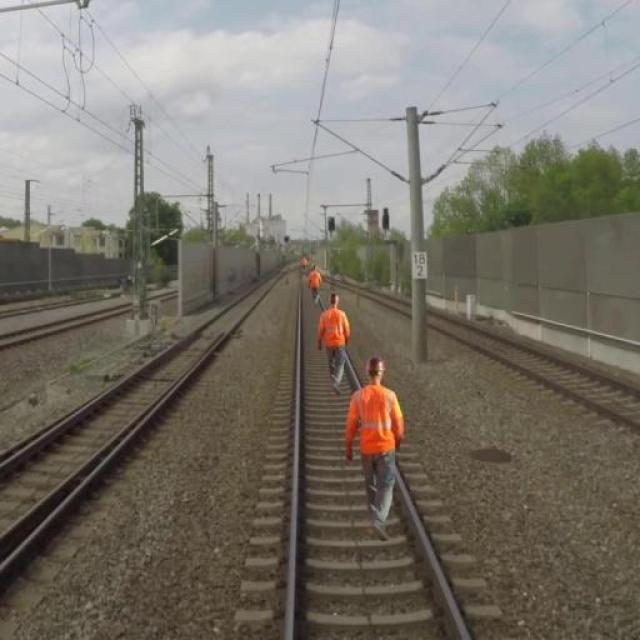people: (346, 354, 415, 536), (314, 290, 362, 389), (309, 265, 324, 299), (298, 253, 311, 276)
